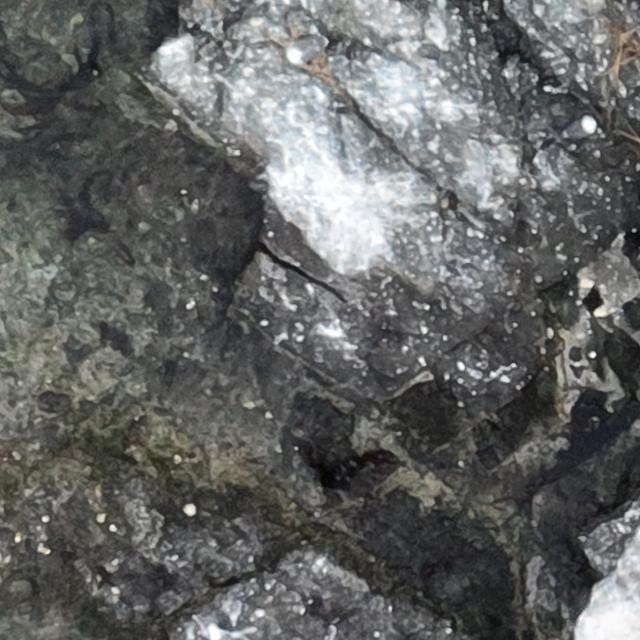umineko: (286, 37, 340, 63), (561, 116, 597, 140)
